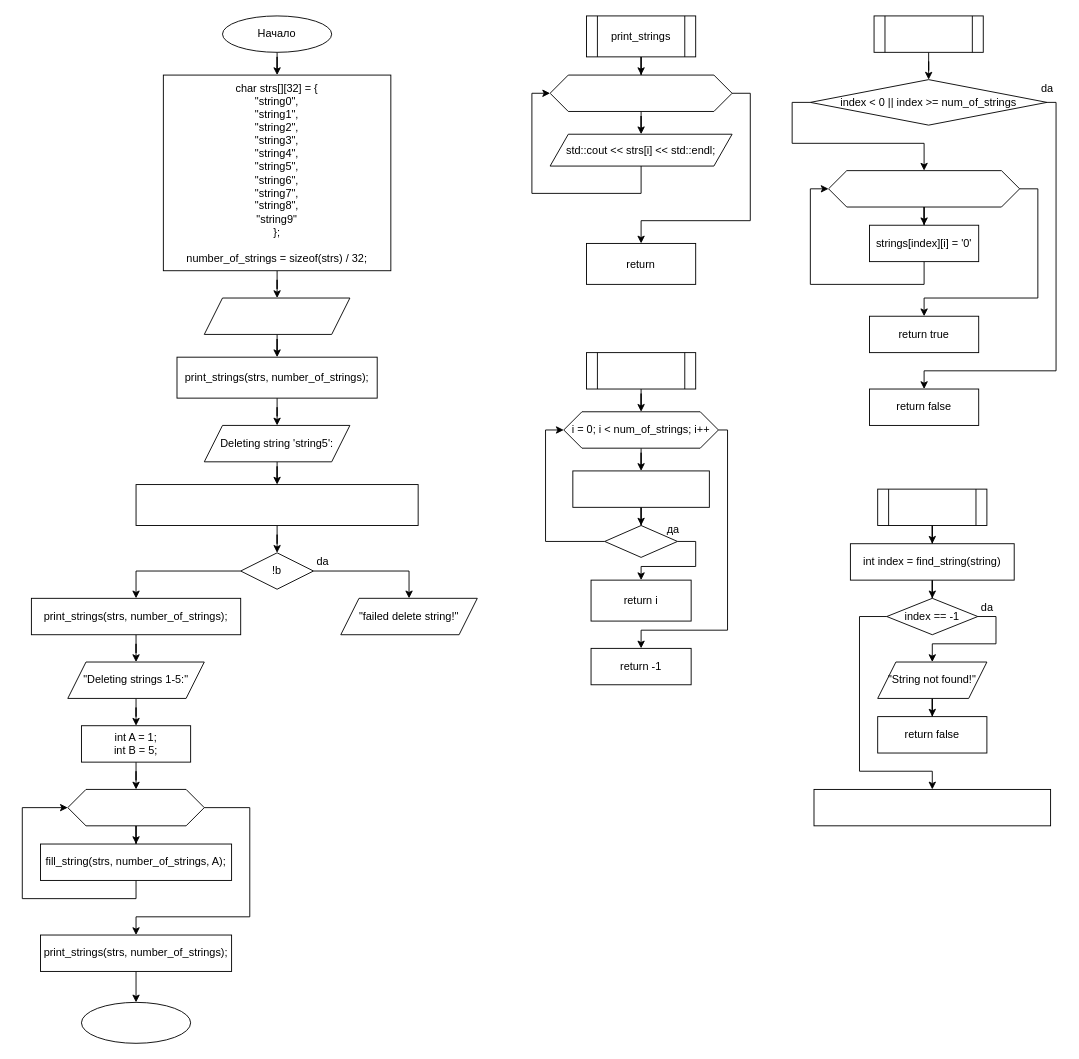
Some shapes in this 1079 by 1059 pixel diagram are drawn without their labels. The shapes that lost their labels are listed below. From the top down, each one's box as (x1, y1, x2, y2) in pixels, then its label:
(873, 15, 983, 52): fill_string
(549, 74, 732, 111): i = 0; i < i number_of_strings; i++
(828, 170, 1020, 207): i = 0; i < 31; i++
(203, 297, 350, 334): "Original strings array"
(586, 352, 696, 389): find_string
(135, 484, 418, 526): bool b = delete_string(strs, number_of_strings, "string5")
(572, 470, 709, 507): bool a = strcmp(strings[i], string)
(877, 488, 987, 526): delete_string
(604, 525, 677, 557): !a
(67, 789, 204, 826): A < B; A++
(813, 789, 1051, 826): return fill_string(strings, num_of_strings, index);
(81, 1001, 191, 1043): Конец
